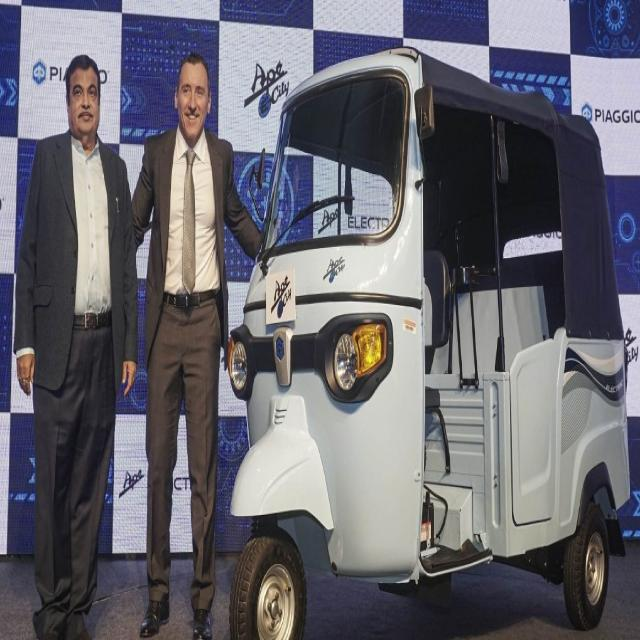autorickshaw: (229, 47, 629, 638)
